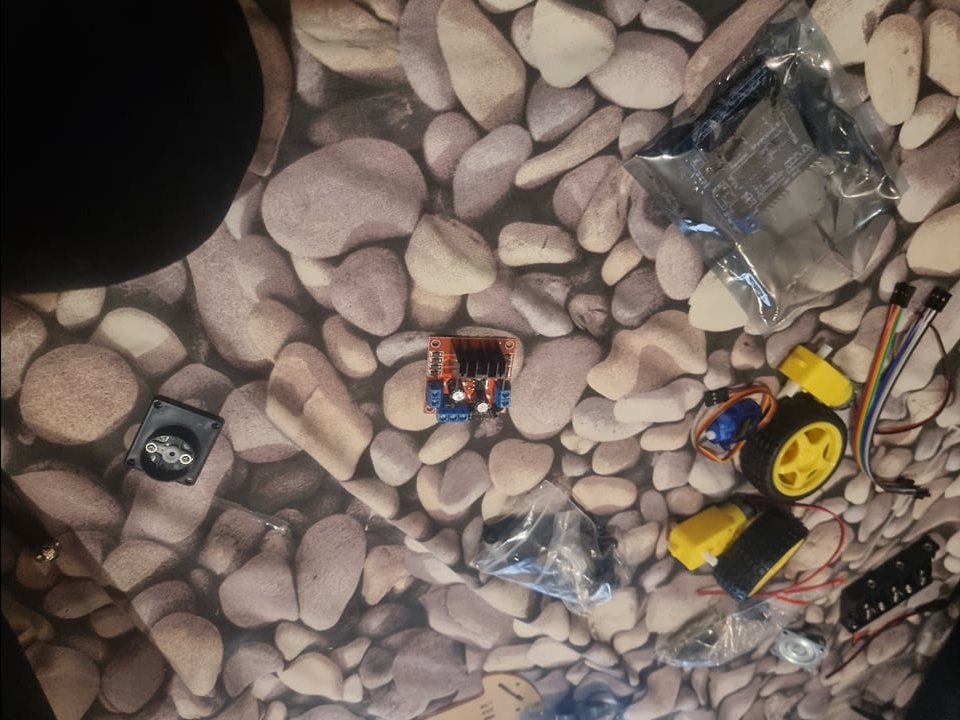BATTERY BOX: (837, 542, 945, 635)
MOTOR: (417, 333, 520, 424)
